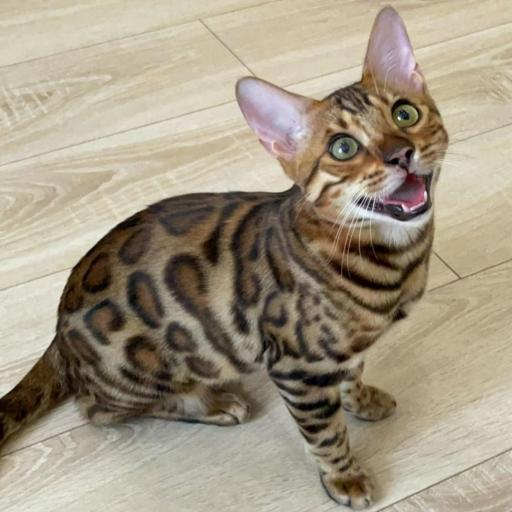cats: (0, 7, 448, 509)
